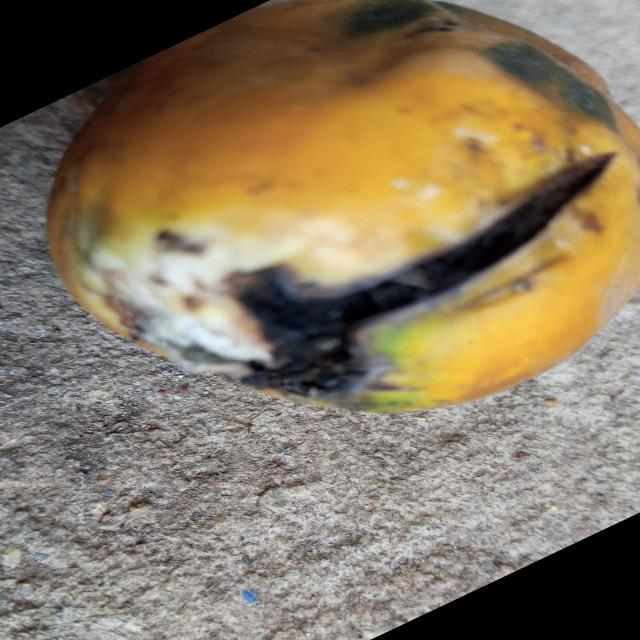damaged: (48, 0, 640, 412)
